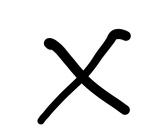mult: (38, 29, 132, 124)
